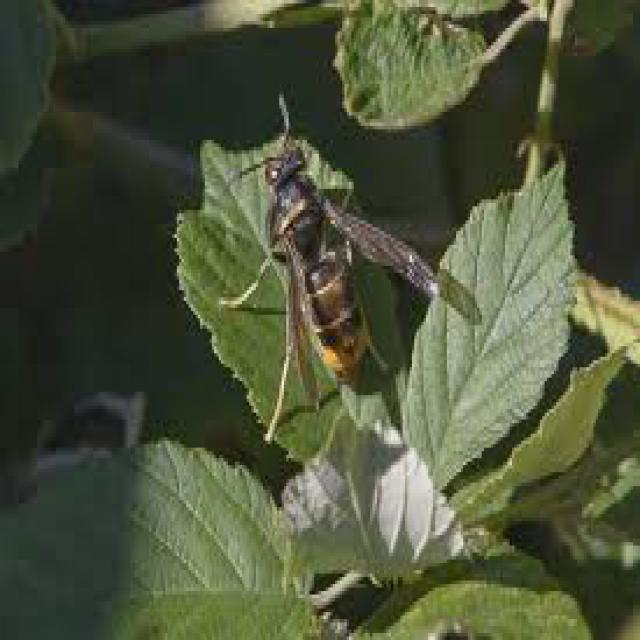Vespa Velutina: (222, 87, 446, 455)
